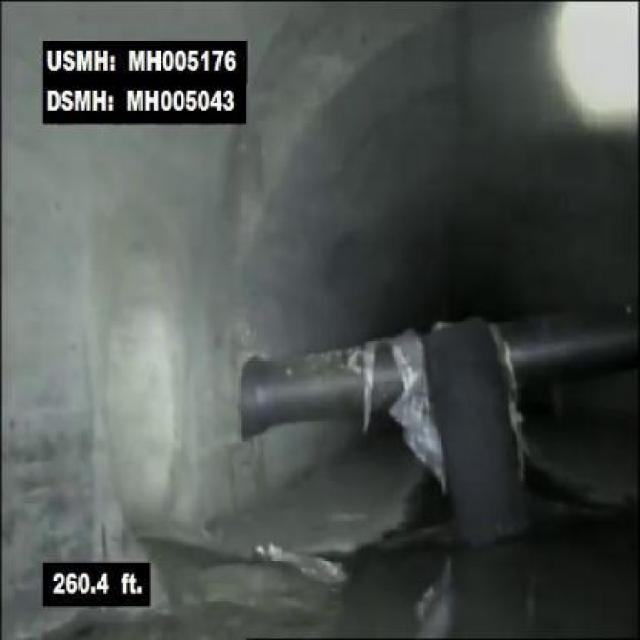Utility intrusion: (234, 295, 638, 451)
